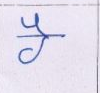ai_matra: (22, 17, 49, 34)
